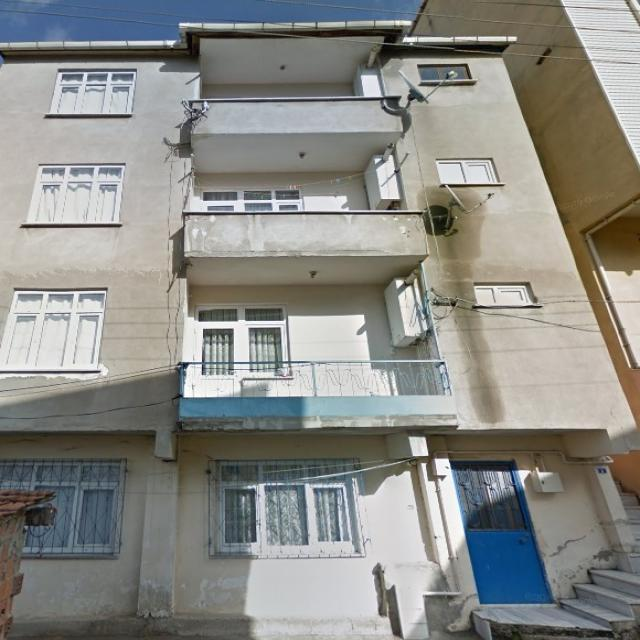Building: (2, 19, 640, 632)
